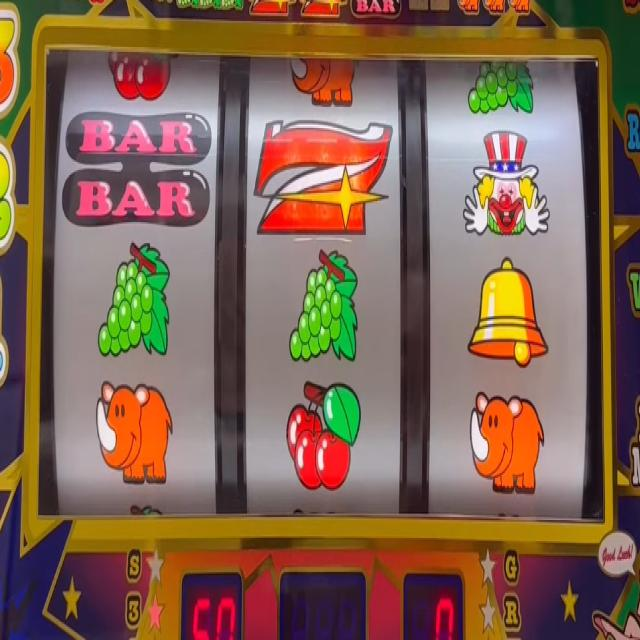bar: (61, 107, 212, 230), (350, 0, 402, 19)
bell: (468, 254, 549, 368)
cherry: (284, 377, 362, 495), (106, 48, 172, 102)
clown: (462, 128, 551, 236)
display: (37, 36, 605, 522)
elephant: (95, 377, 174, 486), (469, 389, 545, 495), (289, 54, 360, 109), (481, 0, 506, 14), (457, 0, 480, 15), (508, 0, 530, 14)
grape: (98, 240, 170, 362), (287, 246, 359, 365), (468, 61, 534, 118), (218, 0, 244, 12), (194, 0, 219, 10), (174, 0, 192, 9)
z: (253, 116, 391, 236), (297, 0, 347, 20), (249, 0, 297, 18)
